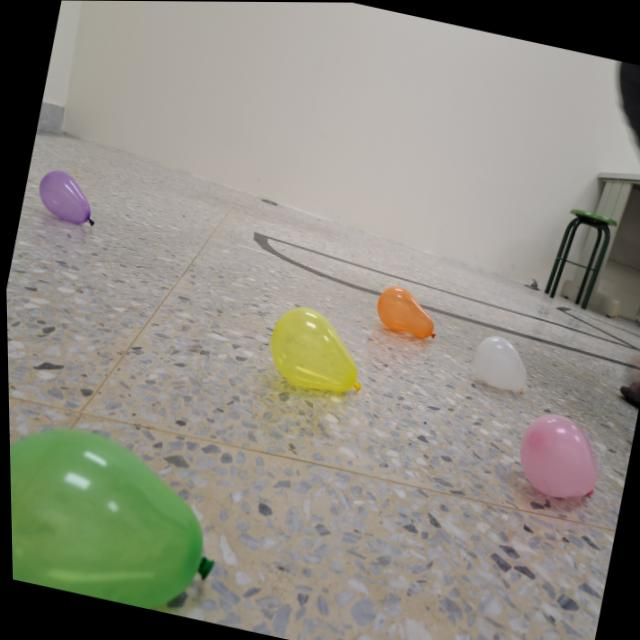other: (7, 408, 222, 618), (257, 300, 374, 403), (509, 405, 608, 504), (369, 279, 445, 346), (31, 164, 104, 229), (465, 332, 534, 397)
